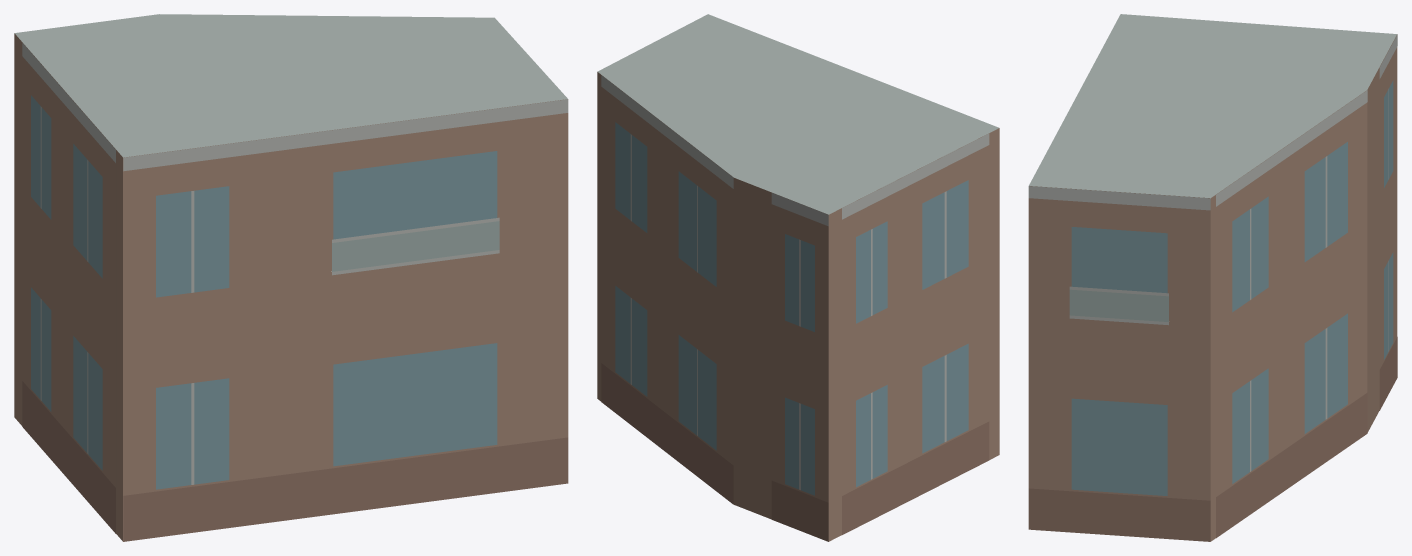
The model's file is survey-upis-32955869.glb.
3 renders of one model, left to right at view 1: azimuth 30°, elevation 25°; view 2: azimuth 150°, elevation 25°; view 3: azimuth 270°, elevation 25°, orthographic. The views are drawn at different scales.
Visible parts, largest first — view 1: survey-upis-32955869.tmp; view 2: survey-upis-32955869.tmp; view 3: survey-upis-32955869.tmp.
Part boxes in pixels (x1,y1,x2,y2): survey-upis-32955869.tmp: (14,14,568,541); survey-upis-32955869.tmp: (597,14,999,541); survey-upis-32955869.tmp: (1028,14,1397,541).
Bounding box in the file's own units: 7.82 × 6.8 × 6.62.
